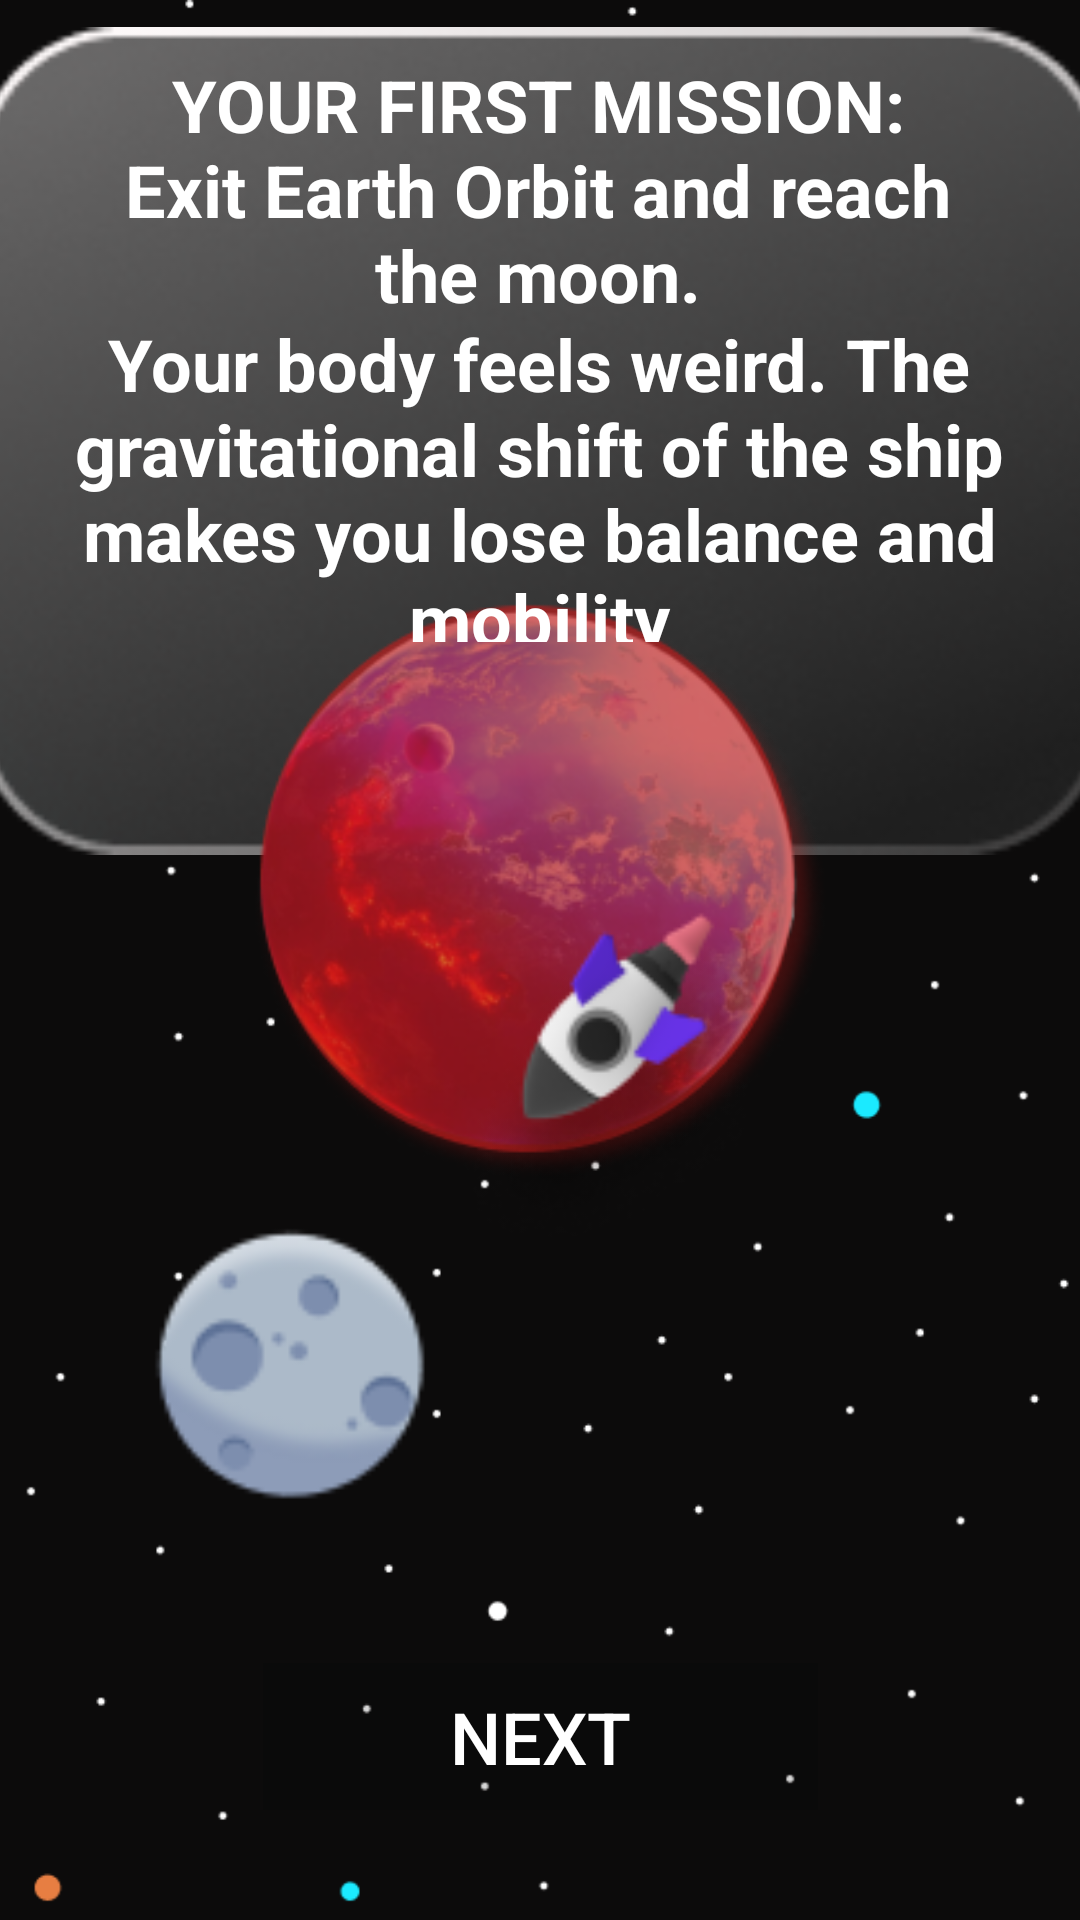

Where to tap for icons on this 1080x1920 app screen, as (x=x, y=y):
moon: (x=299, y=1364)
